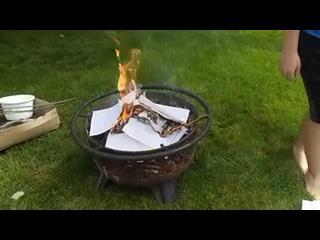Fire: (105, 33, 144, 126)
